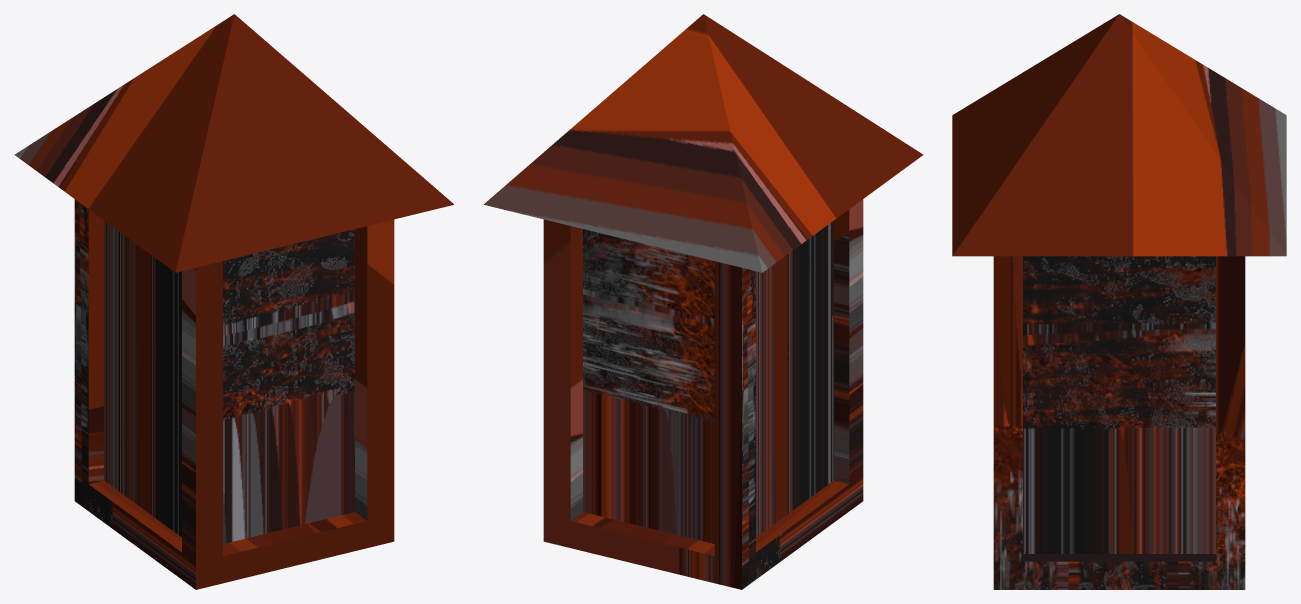
The model's file is lantern.fbx.
The picture shows the model from 3 angles, left to right: view 1: azimuth 30°, elevation 25°; view 2: azimuth 150°, elevation 25°; view 3: azimuth 270°, elevation 25°; orthographic projection. The views are drawn at different scales.
Visible parts, largest first — view 1: pCube914, pCube913, pCube912; view 2: pCube914, pCube913, pCube912; view 3: pCube914, pCube913, pCube912.
Part boxes in pixels (box(x1,y1,x2,y2)): pCube914: box(14, 14, 453, 272); pCube913: box(104, 221, 354, 543); pCube912: box(74, 199, 394, 589); pCube914: box(484, 14, 923, 272); pCube913: box(583, 221, 833, 543); pCube912: box(543, 199, 863, 589); pCube914: box(952, 14, 1286, 256); pCube913: box(1023, 256, 1215, 553); pCube912: box(993, 256, 1245, 589).
Size of the model in its own units: 0.473 by 0.8216 by 0.473.
Materials: 1 (1 with a texture image).
